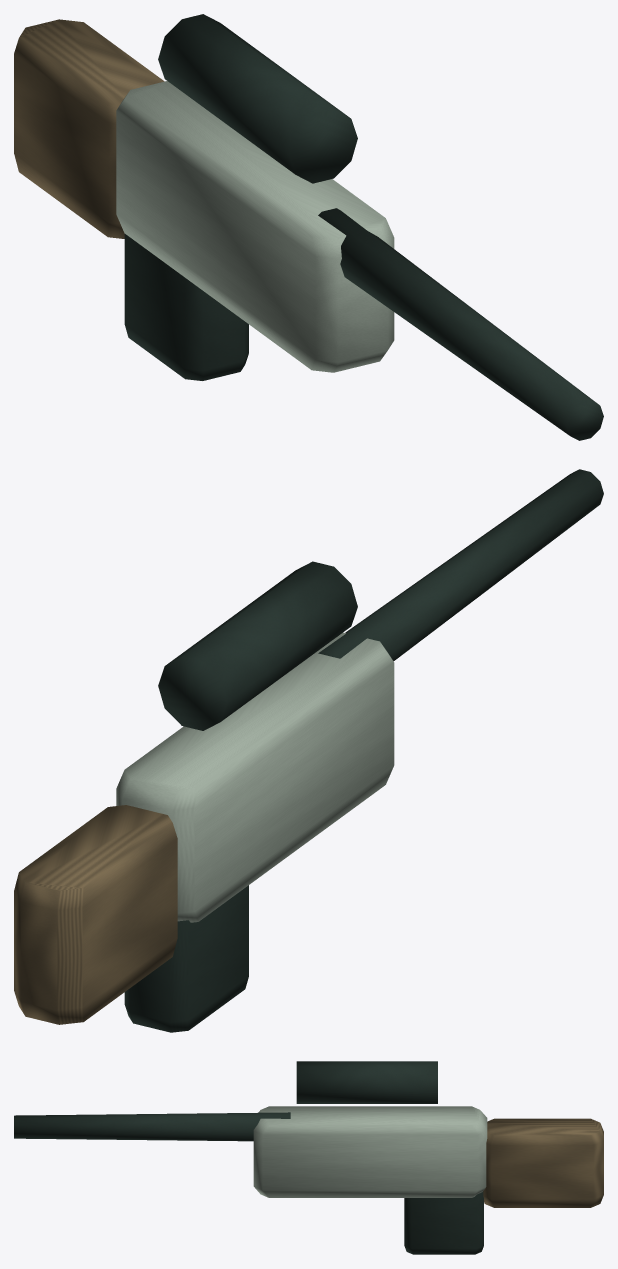
The model's file is rifle.glb.
3 renders of one model, top to bottom at view 1: azimuth 30°, elevation 25°; view 2: azimuth 150°, elevation 25°; view 3: azimuth 270°, elevation 25°, orthographic. The views are drawn at different scales.
Visible parts, largest first — view 1: Surface; view 2: Surface; view 3: Surface.
Boxes of the visible parts, x1,y1,x2,y2 form: Surface: [14, 14, 603, 440]; Surface: [14, 469, 603, 1032]; Surface: [14, 1061, 603, 1254].
Bounding box in the file's own units: 0.08 × 0.3283 × 0.96.
Materials: 1 (1 with a texture image).
